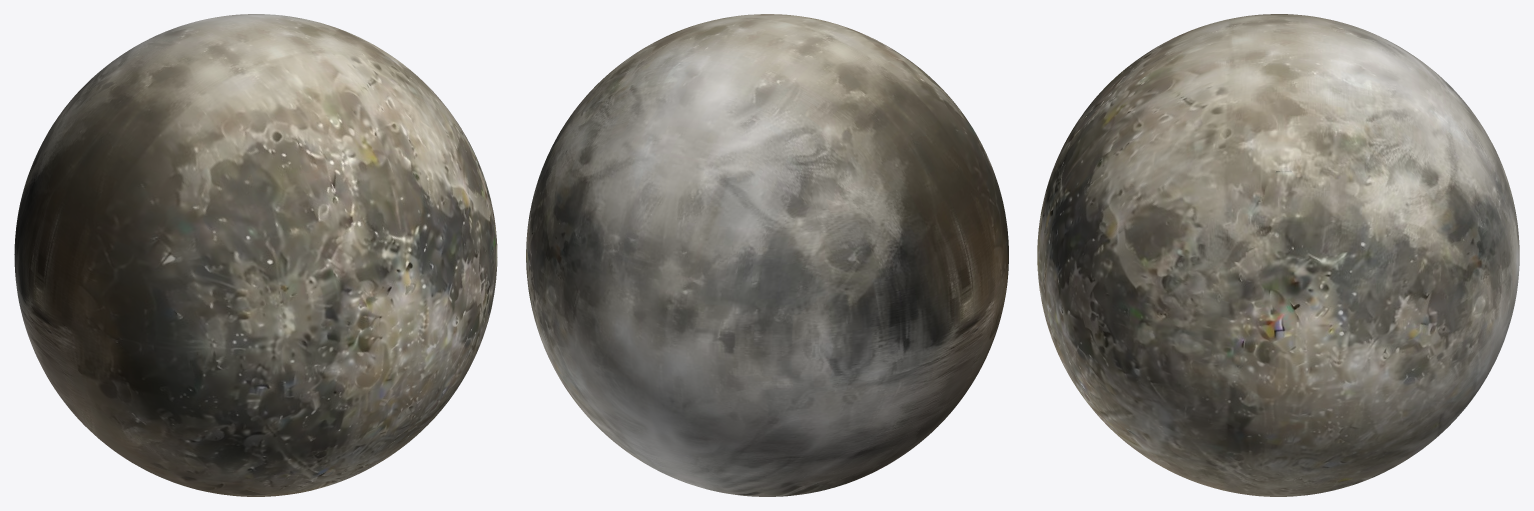
Rendered from moon_optimizada.glb.
3 renders of one model, left to right at view 1: azimuth 30°, elevation 25°; view 2: azimuth 150°, elevation 25°; view 3: azimuth 270°, elevation 25°, orthographic.
Visible parts, largest first — view 1: input; view 2: input; view 3: input.
Part boxes in pixels (x1,y1,x2,y2): input: (14, 14, 497, 496); input: (526, 14, 1008, 496); input: (1037, 14, 1519, 496).
Size of the model in its own units: 0.9991 by 1 by 0.9992.
1 material, 1 textured.
